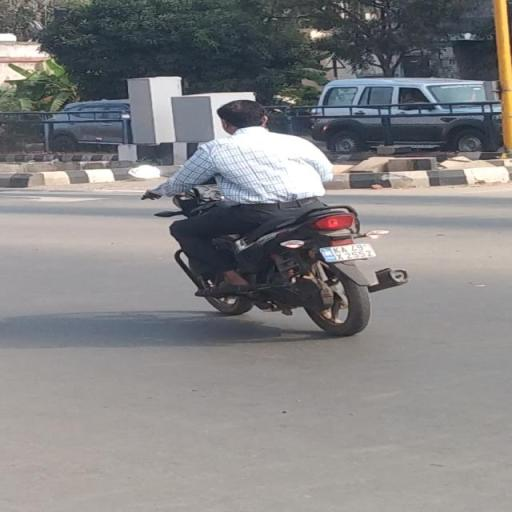bike: (126, 98, 412, 338)
numberplate: (316, 236, 376, 264)
withouthelmet: (221, 101, 267, 128)
